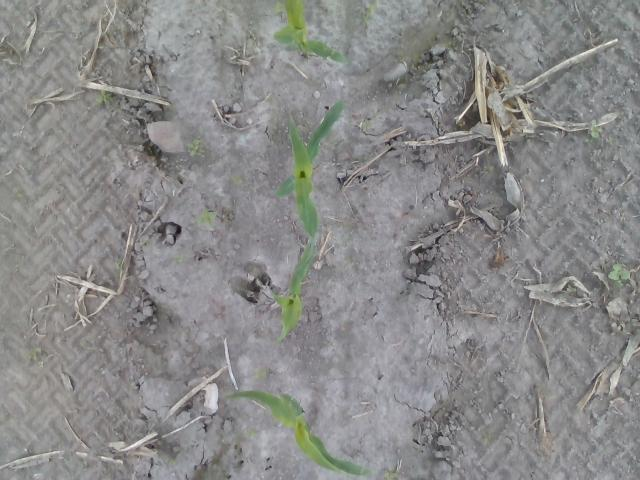Maize: (224, 390, 375, 478), (275, 100, 344, 266), (274, 0, 348, 64), (270, 244, 314, 345), (314, 0, 378, 22)
Weeds: (608, 264, 631, 290), (195, 209, 217, 230), (187, 139, 206, 156), (588, 120, 602, 138), (96, 90, 112, 104), (384, 465, 398, 480), (27, 346, 41, 360), (273, 0, 287, 13), (252, 368, 266, 380), (244, 426, 256, 439), (362, 120, 374, 132), (10, 187, 22, 198), (172, 253, 184, 263), (114, 257, 122, 272), (230, 174, 242, 184), (164, 456, 176, 466), (482, 432, 492, 442), (483, 164, 494, 173), (140, 238, 150, 246), (567, 284, 576, 292), (6, 417, 14, 424)
